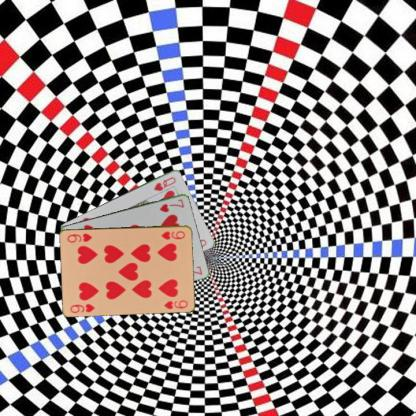7h: (157, 197, 186, 214)
9h: (67, 301, 96, 314), (158, 228, 186, 241)
Qh: (152, 174, 178, 192)
